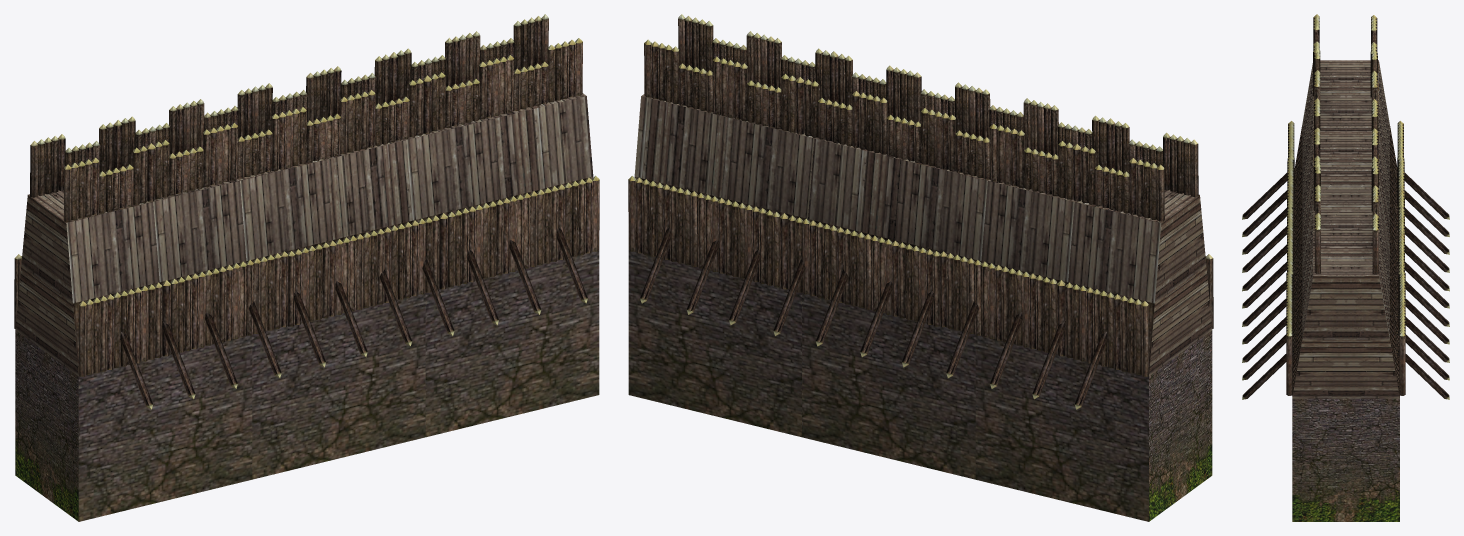
Rendered from s_germans_wooden_wall_long.glb.
The picture shows the model from 3 angles, left to right: view 1: azimuth 30°, elevation 25°; view 2: azimuth 150°, elevation 25°; view 3: azimuth 270°, elevation 25°; orthographic projection. The views are drawn at different scales.
Visible parts, largest first — view 1: s_germans_wooden_wall_long_part0; view 2: s_germans_wooden_wall_long_part0; view 3: s_germans_wooden_wall_long_part0.
Boxes of the visible parts, <box> form: s_germans_wooden_wall_long_part0: <box>14,14,599,521</box>; s_germans_wooden_wall_long_part0: <box>628,14,1213,521</box>; s_germans_wooden_wall_long_part0: <box>1242,14,1449,521</box>.
Bounding box in the file's own units: 8.74 × 5.57 × 3.56.
Materials: 1 (1 with a texture image).
